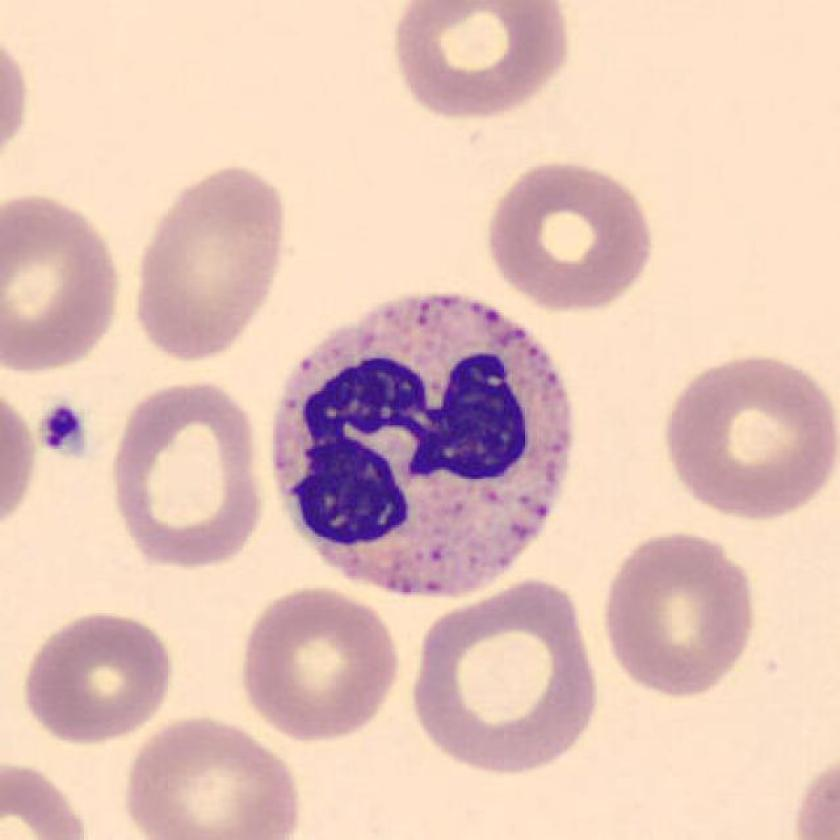neutrophil: (270, 291, 573, 597)
